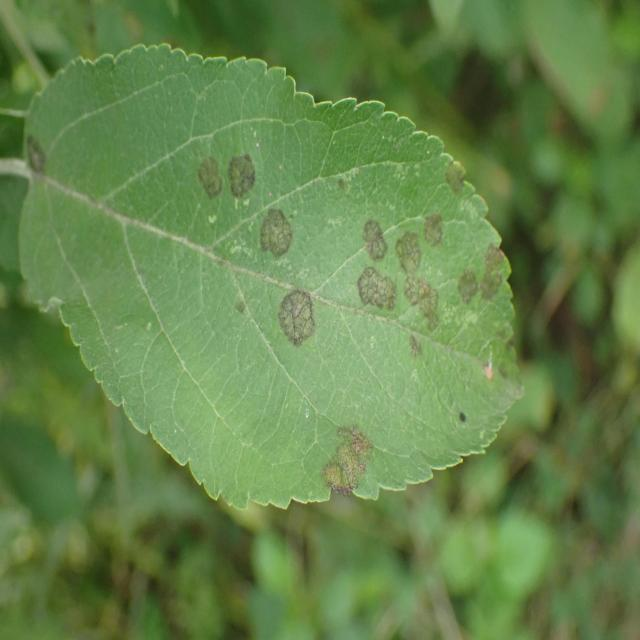scab: (314, 410, 381, 510), (262, 281, 326, 361), (397, 274, 452, 357), (351, 261, 404, 338), (488, 300, 528, 398), (185, 126, 223, 219), (251, 199, 295, 279), (18, 103, 53, 201), (223, 137, 259, 215), (350, 199, 390, 264), (481, 232, 511, 296), (449, 260, 482, 318), (419, 202, 452, 258), (440, 148, 474, 202), (387, 226, 425, 266), (323, 168, 363, 197), (233, 285, 254, 328)
